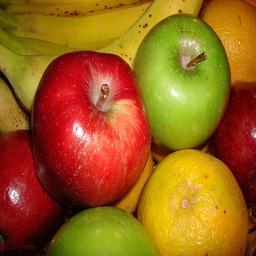apple: (31, 50, 151, 210), (134, 11, 231, 155), (1, 129, 65, 249)
